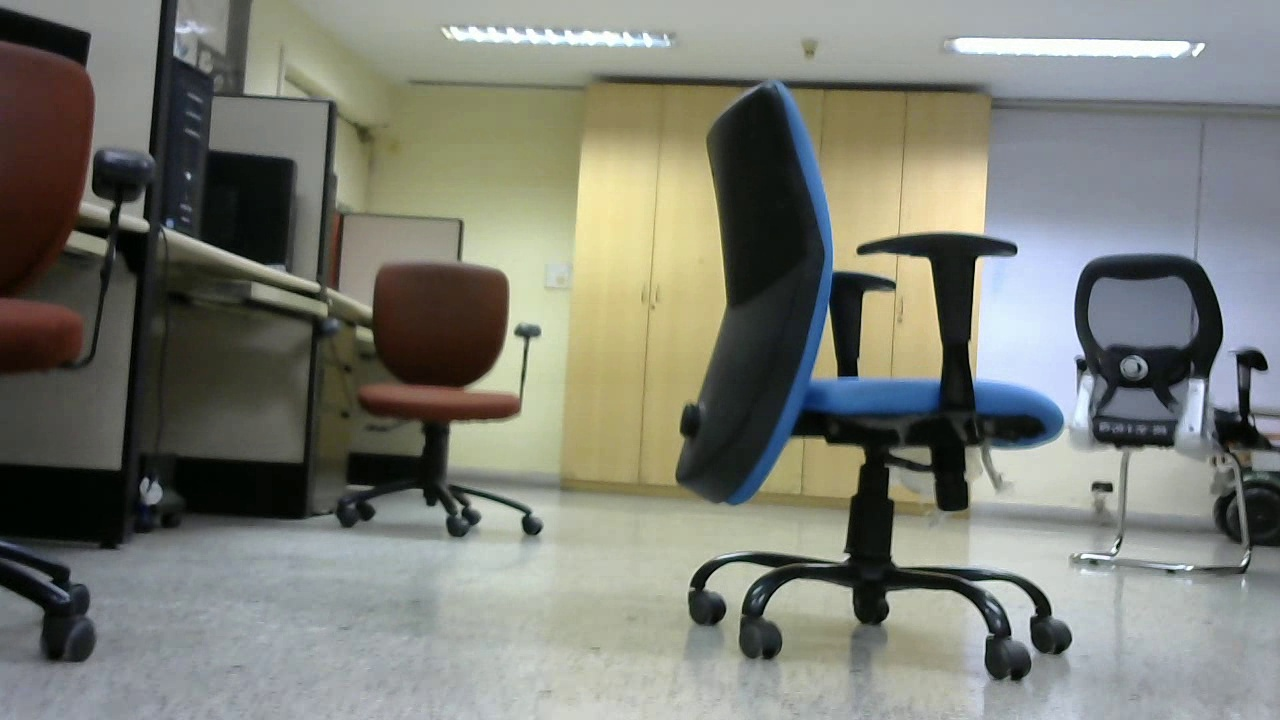chair: (673, 70, 1068, 672), (332, 250, 547, 542), (1067, 243, 1253, 576)
